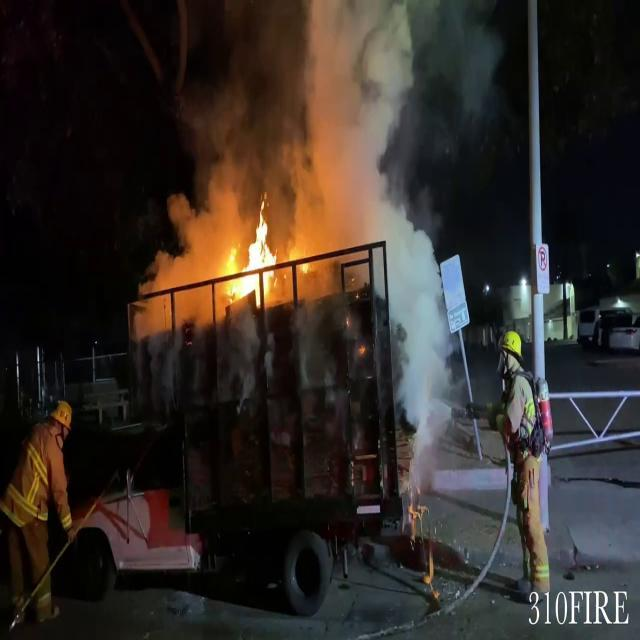Fire: (211, 200, 288, 306)
Smoke: (147, 1, 446, 276), (372, 198, 452, 452)
